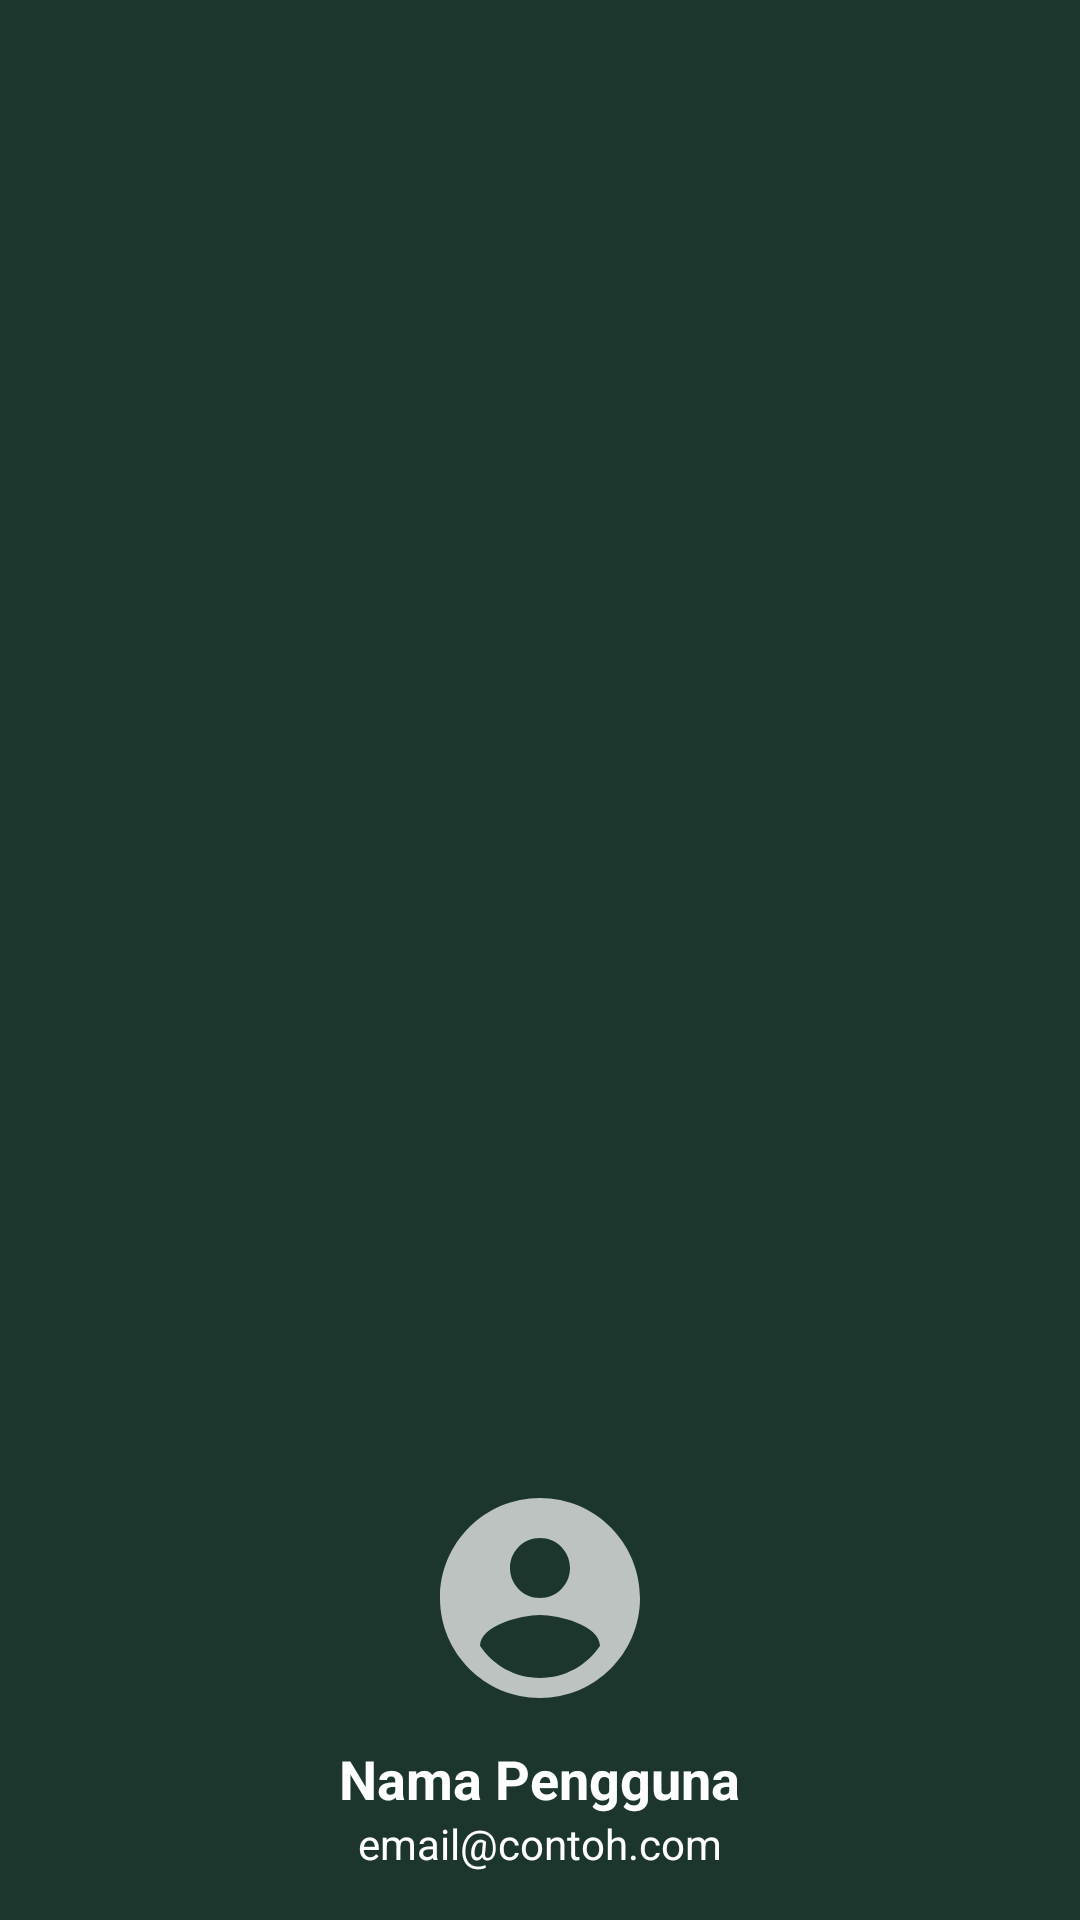

Named icons in this screenshot (1080x1920) and their bounding boxes, bbox=(x1, y1, x2, y2):
Foto Profil: bbox=(440, 1498, 640, 1698)
